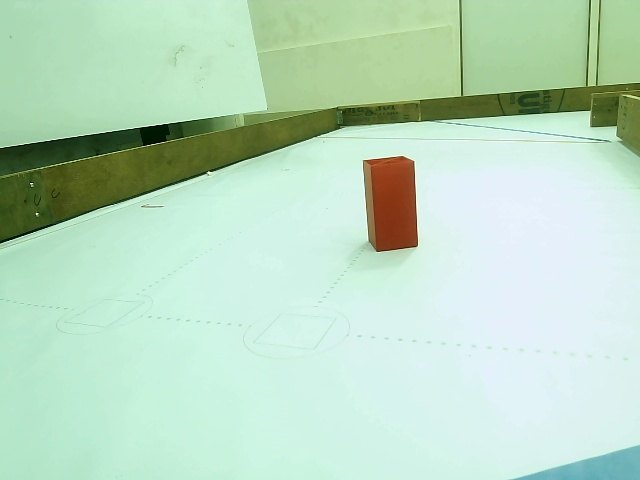red: (368, 160, 419, 248)
